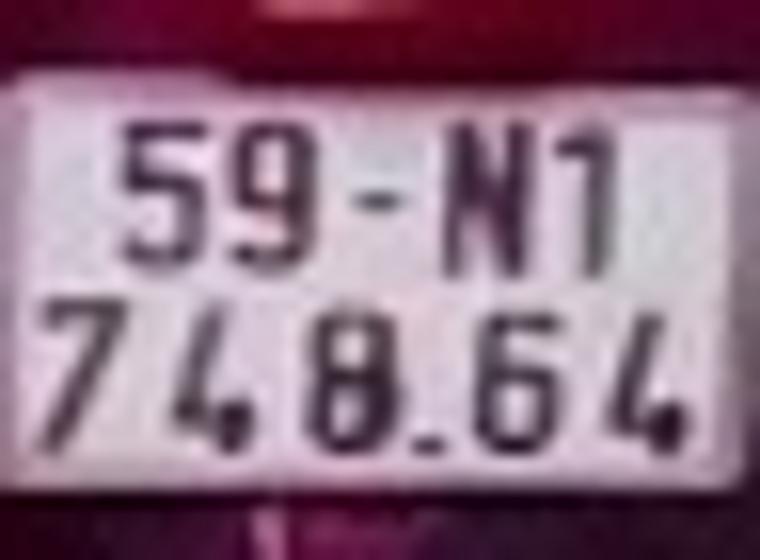-: (344, 176, 414, 221)
.: (408, 429, 449, 458)
1: (559, 109, 629, 285)
4: (170, 294, 266, 464), (603, 306, 703, 458)
5: (117, 112, 218, 272)
6: (469, 299, 571, 460)
7: (37, 288, 134, 455)
8: (306, 299, 398, 457)
9: (230, 118, 321, 280)
N: (436, 114, 539, 285)
